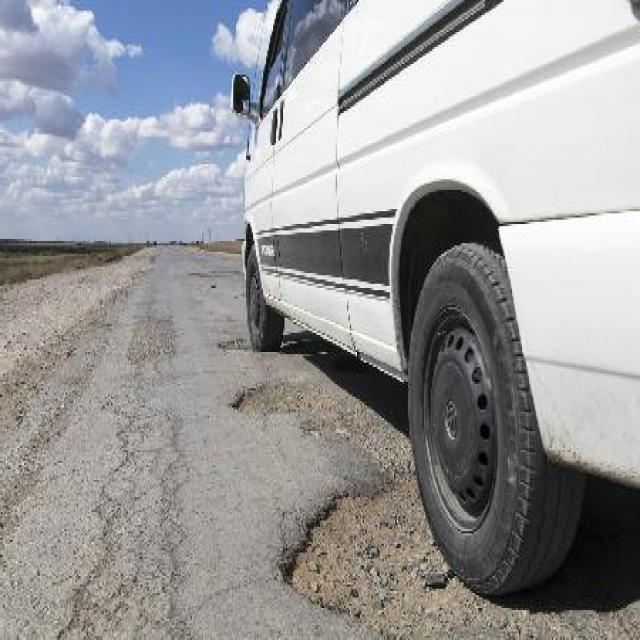buraco: (274, 466, 476, 634), (274, 468, 463, 632), (230, 376, 337, 418), (235, 380, 333, 417), (218, 333, 256, 352), (222, 340, 246, 352)
